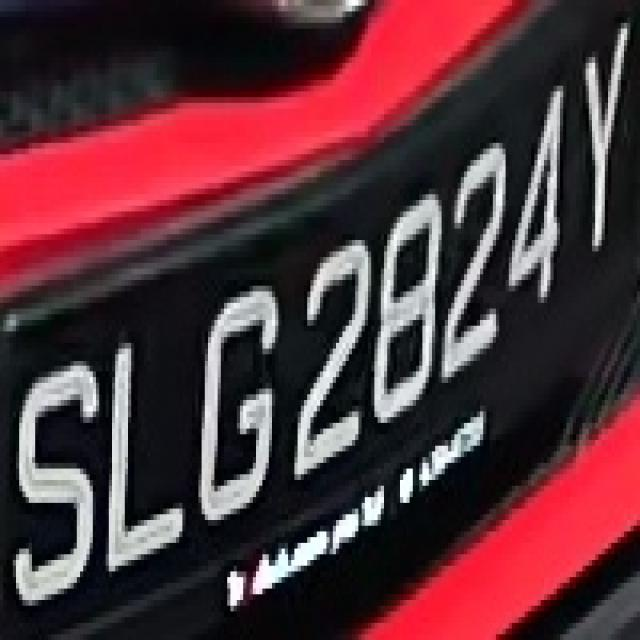2: (294, 228, 381, 468), (445, 143, 515, 394)
4: (506, 63, 576, 326)
8: (368, 200, 445, 434)
G: (189, 268, 288, 532)
L: (102, 320, 189, 583)
S: (6, 348, 100, 623)
Y: (569, 28, 640, 280)
